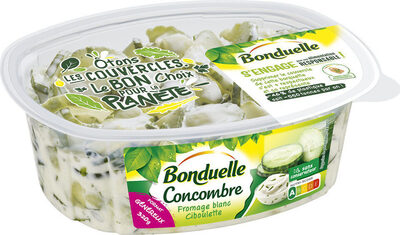Concombre fromage blc 320g: (20, 12, 380, 223)
